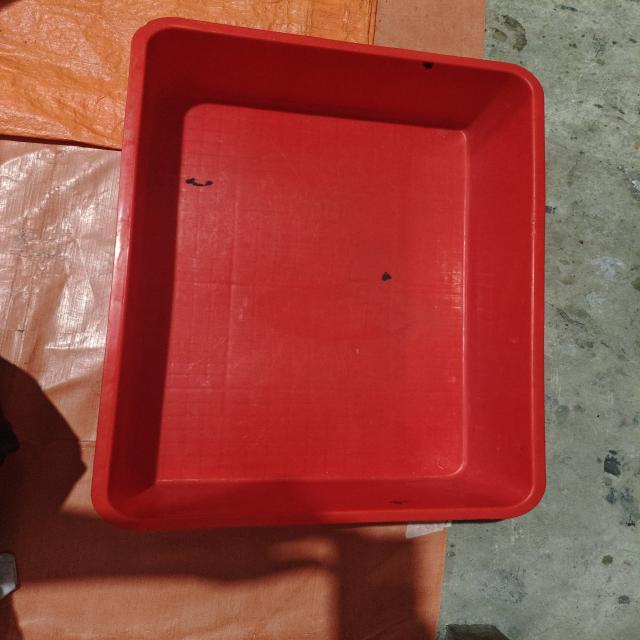red plastic box: (91, 17, 547, 531)
